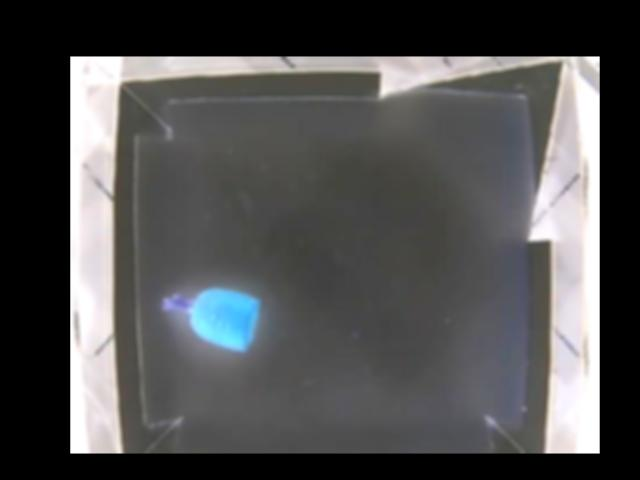Carrot: (161, 289, 258, 345)
